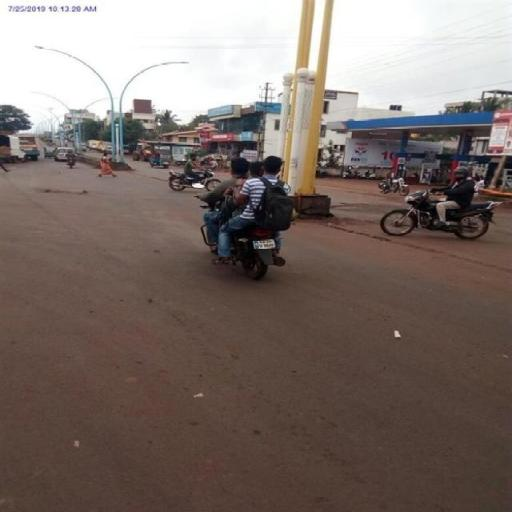tripple riding: (212, 155, 298, 223)
